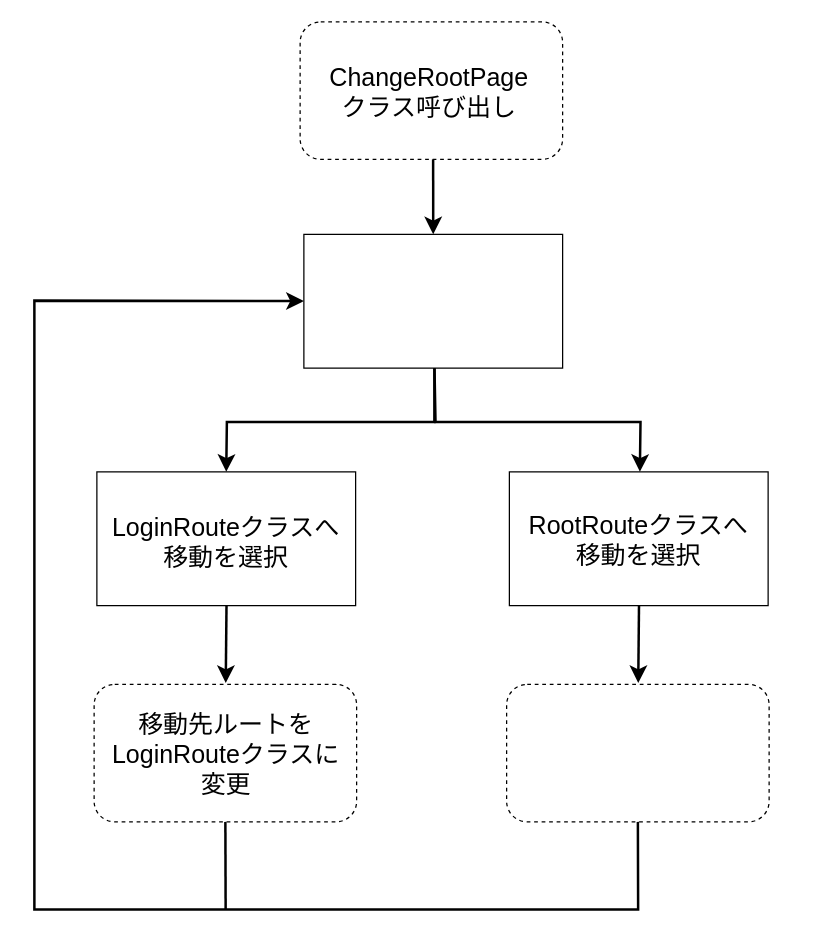
Some shapes in this 823 by 945 pixel diagram are drawn without their labels. The shapes that lost their labels are listed below. From the top down, each one's centre as x and y in pixels, then its label:
(433,300): 指定のルートを表示
(637,752): 移動先ルートを RootRouteクラスに 変更
